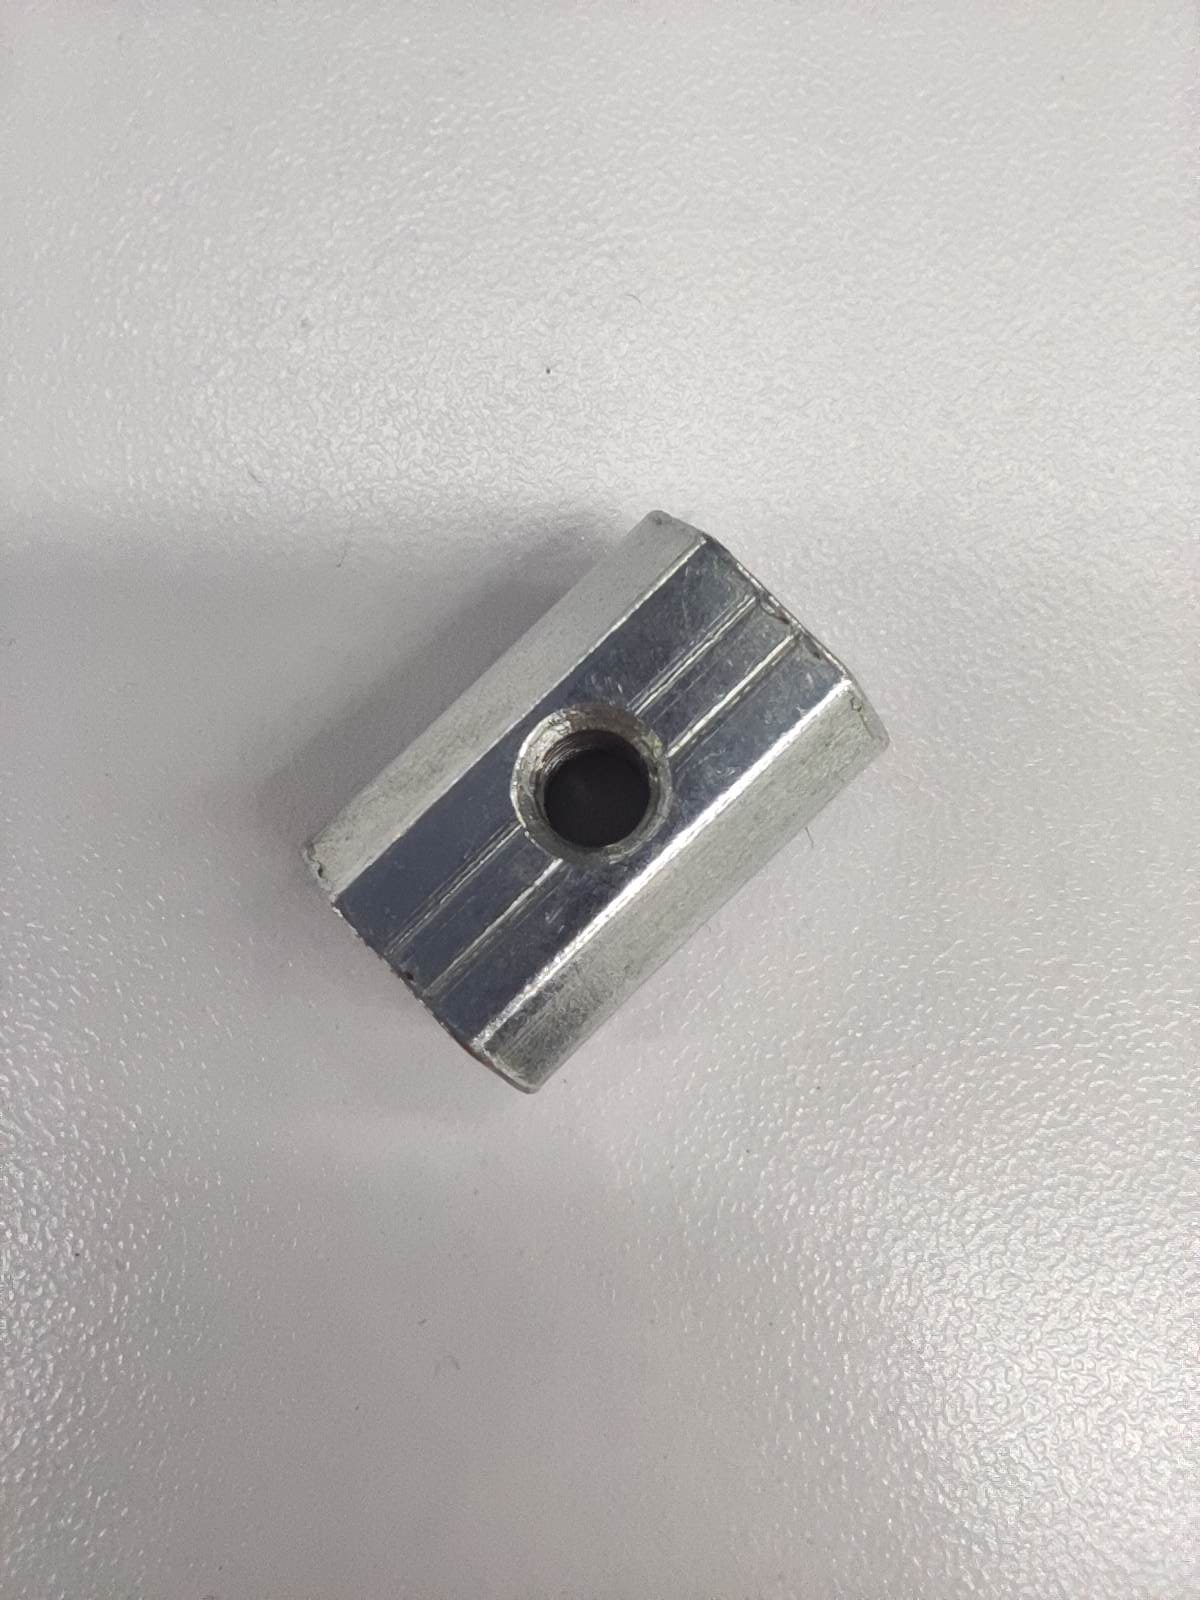T型块1: (299, 509, 891, 1096)
